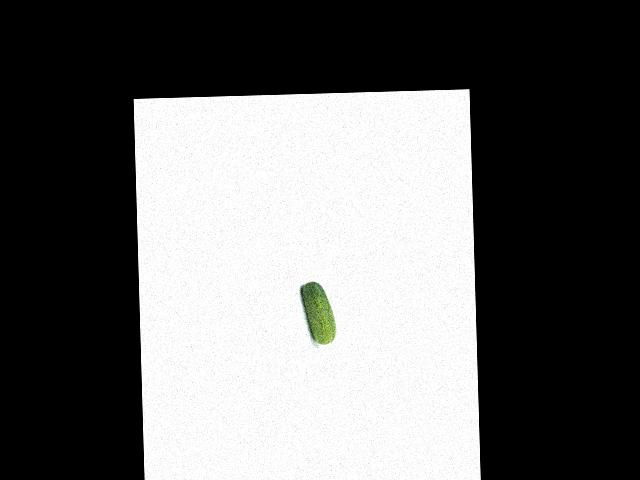cucumber: (301, 281, 336, 344)
